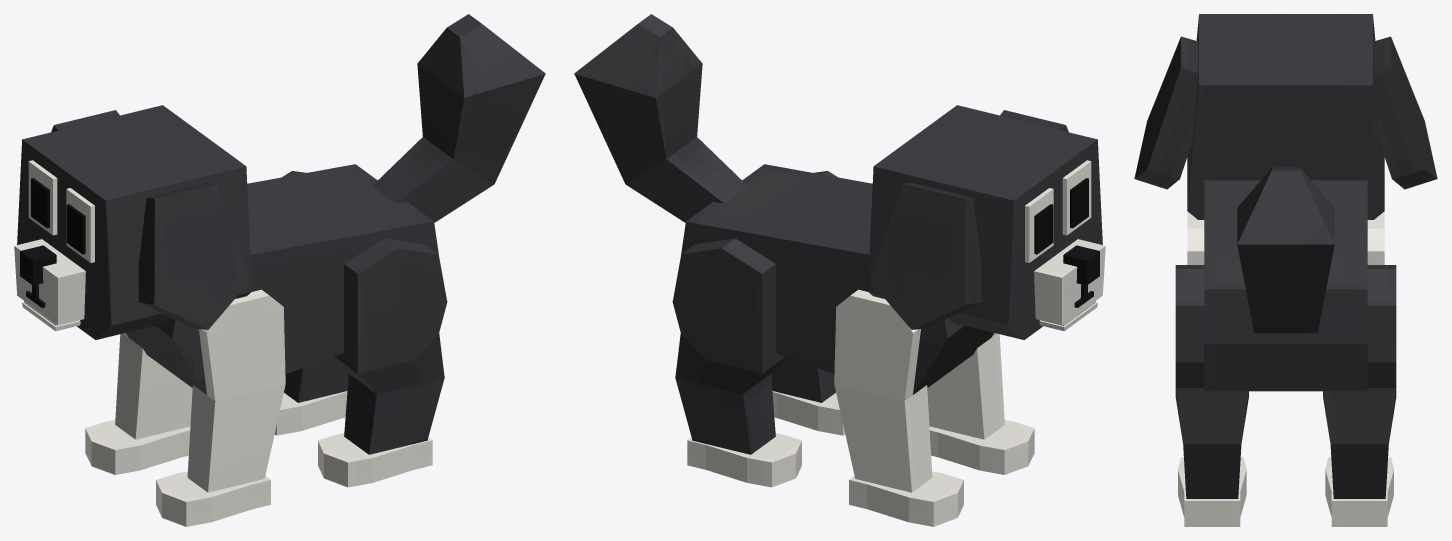
File: animal_collie_parts.obj
The picture shows the model from 3 angles, left to right: view 1: azimuth 30°, elevation 25°; view 2: azimuth 150°, elevation 25°; view 3: azimuth 270°, elevation 25°; orthographic projection. The views are drawn at different scales.
Parts seen in each view (by area): view 1: Head, Body, RearL, FrontL, Tail, FrontR, RearR; view 2: Head, Body, RearR, FrontR, Tail, FrontL, RearL; view 3: Head, Body, Tail, RearL, RearR, FrontL, FrontR.
Boxes of the visible parts, <box> form: Head: <box>14,105,251,339</box>; Body: <box>126,164,438,394</box>; RearL: <box>318,238,447,487</box>; FrontL: <box>156,289,285,526</box>; Tail: <box>372,14,545,222</box>; FrontR: <box>85,333,192,474</box>; RearR: <box>274,171,348,435</box>; Head: <box>868,105,1105,339</box>; Body: <box>681,164,993,394</box>; RearR: <box>672,238,801,487</box>; FrontR: <box>834,289,963,526</box>; Tail: <box>574,14,747,222</box>; FrontL: <box>927,333,1034,474</box>; RearL: <box>771,171,845,435</box>; Head: <box>1134,14,1437,219</box>; Body: <box>1204,180,1367,391</box>; Tail: <box>1237,167,1334,333</box>; RearL: <box>1175,265,1248,526</box>; RearR: <box>1323,265,1396,526</box>; FrontL: <box>1178,211,1246,413</box>; FrontR: <box>1325,211,1393,413</box>.
Size of the model in its own units: 5.61 by 4.2 by 2.86.
Materials: 5 (2 with a texture image).
